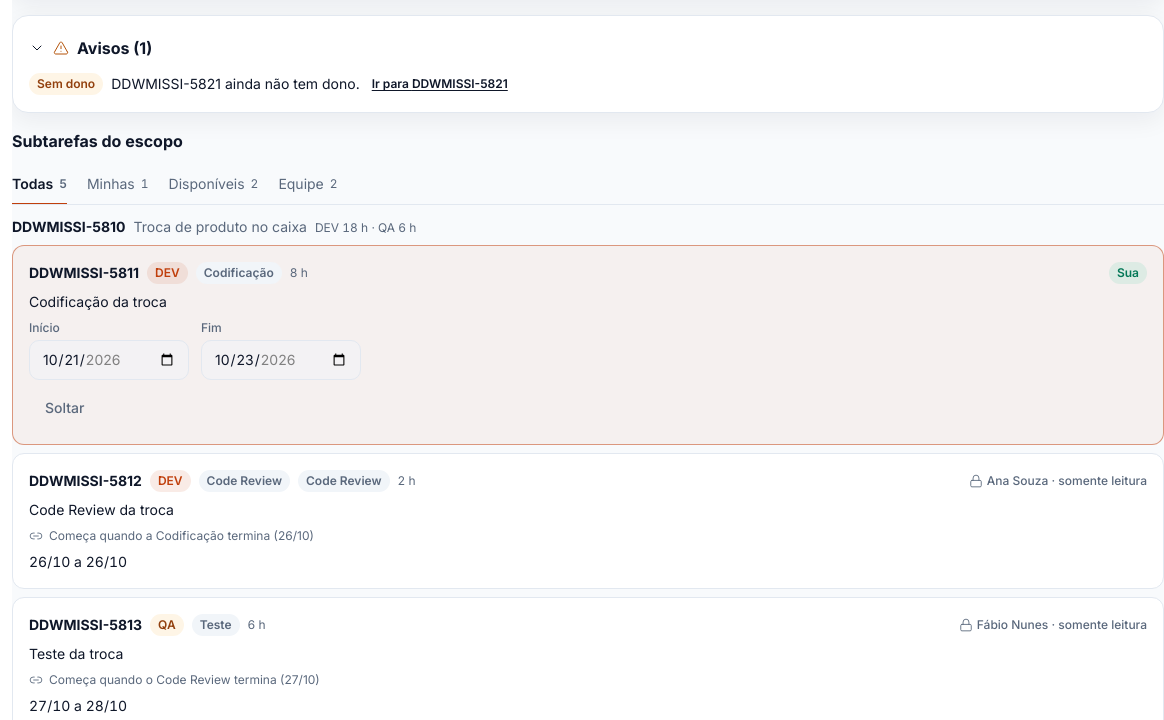
Test: Distribuição: datas e cascata › editar o fim e salvar envia início e fim; a cascata vem da resposta
The width and height of the screenshot is (1164, 720).
(page scrolled)
In the date field labelled "Fim": (281, 360) [201, 340, 361, 380], type "2026-10-26"
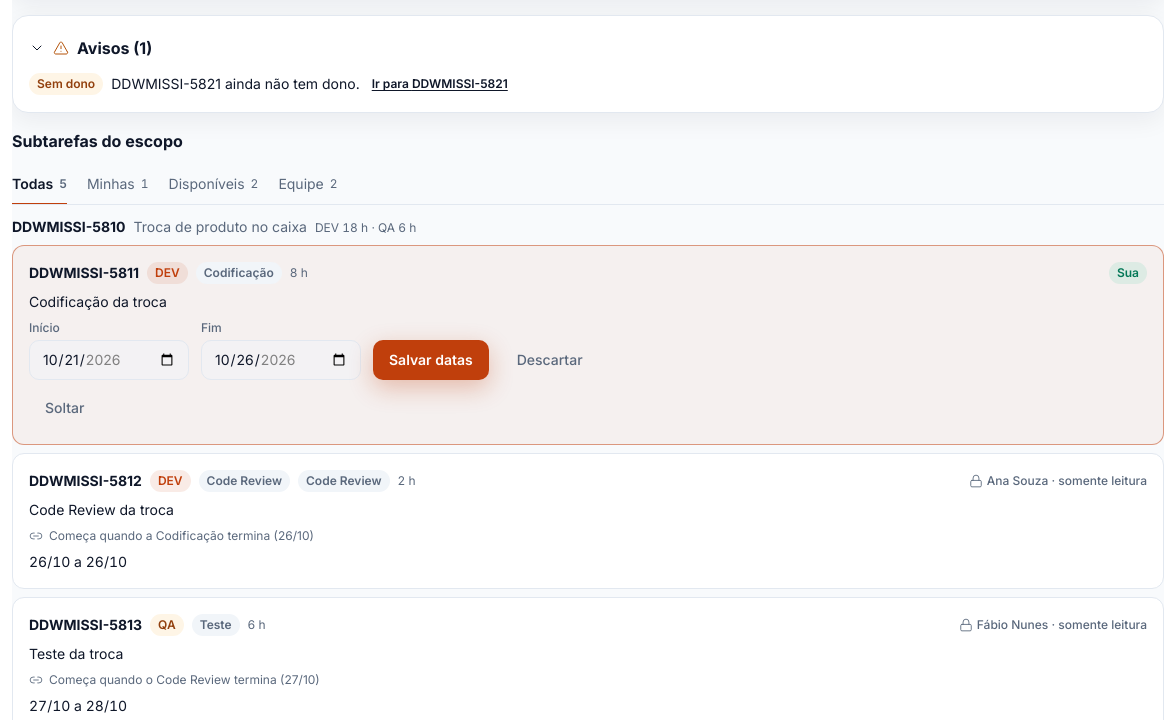
Click the button "Salvar datas": (431, 360) [373, 340, 489, 380]
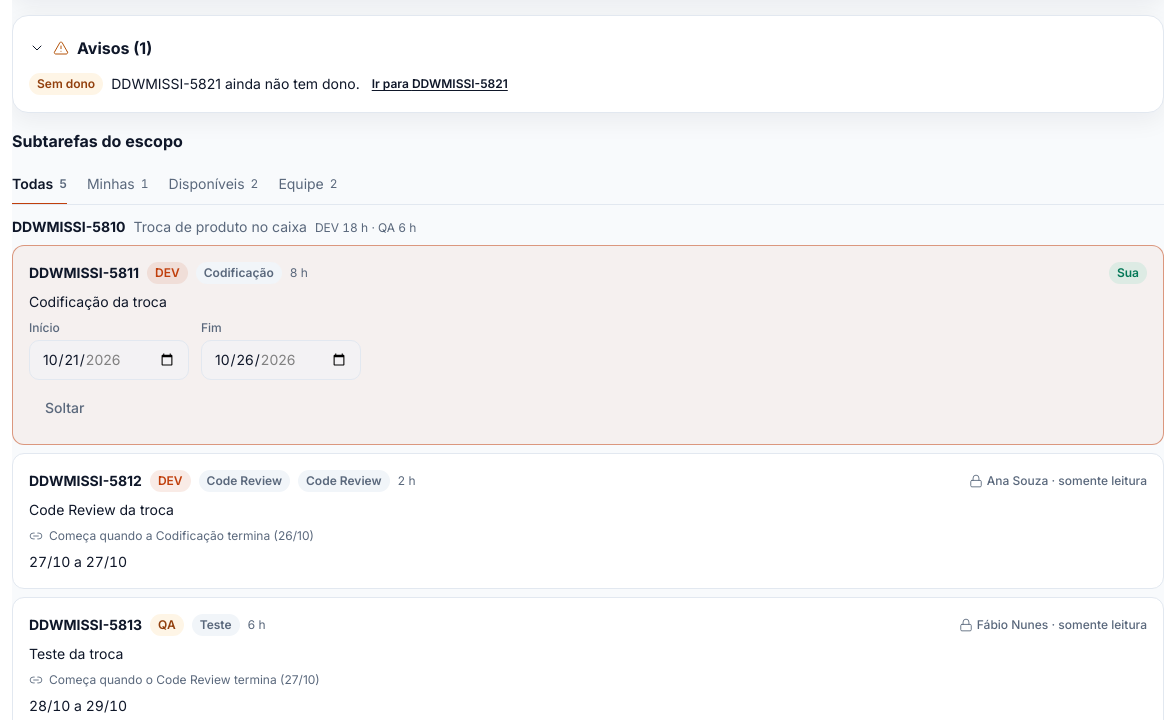
Now the text with test id "datas-leitura-DDWMISSI-5813" reads "28/10 a 29/10", box [29, 697, 127, 714]
Now the text with test id "datas-leitura-DDWMISSI-5812" reads "27/10 a 27/10", box [29, 553, 127, 570]
